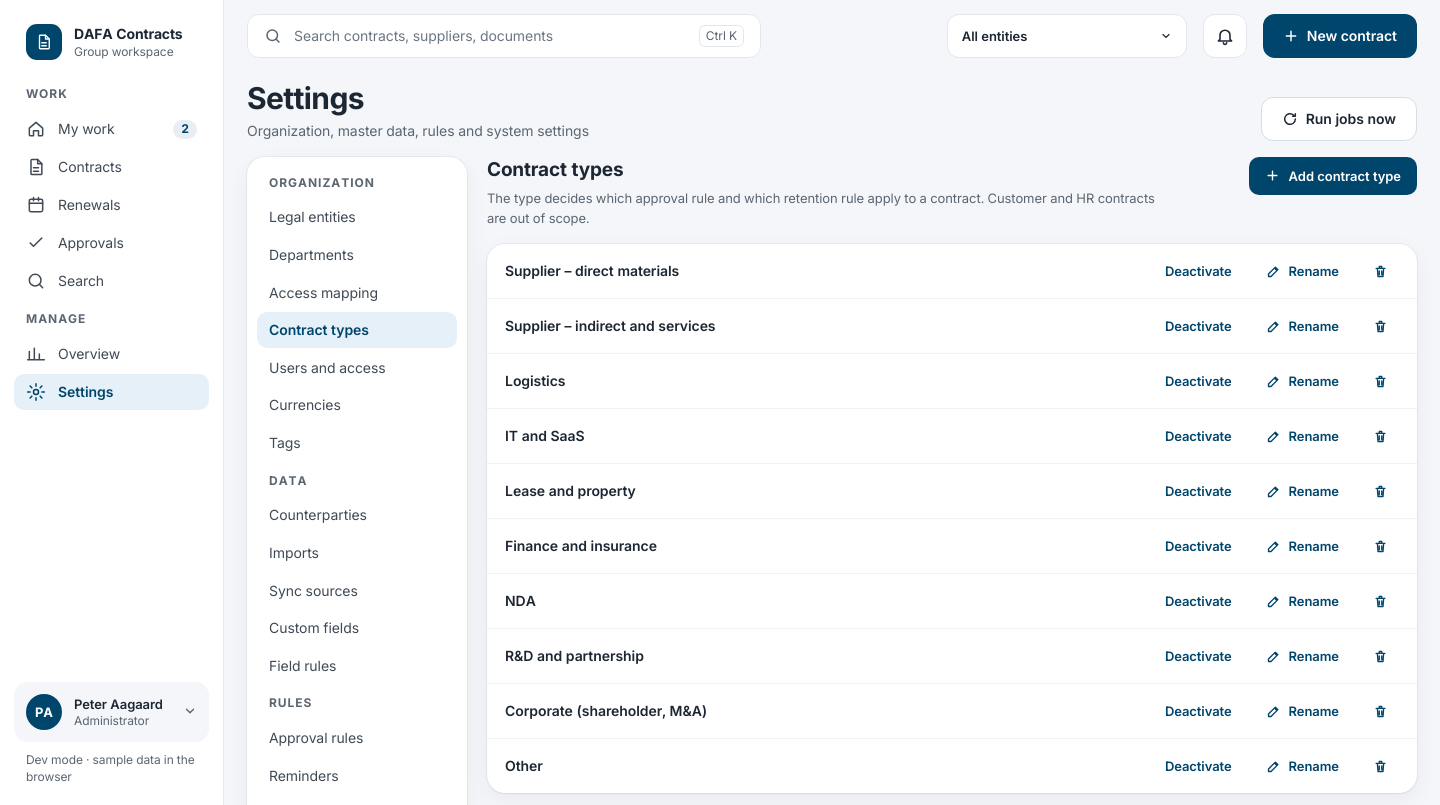
Test: M1: a refused action shows the reason, not "One or more fields are invalid." › a rename the API refuses shows the sentence of the field in the toast
Click the button "Rename " in the row of "Supplier – direct materials".
click(1302, 271)  # box [1256,253,1349,289]
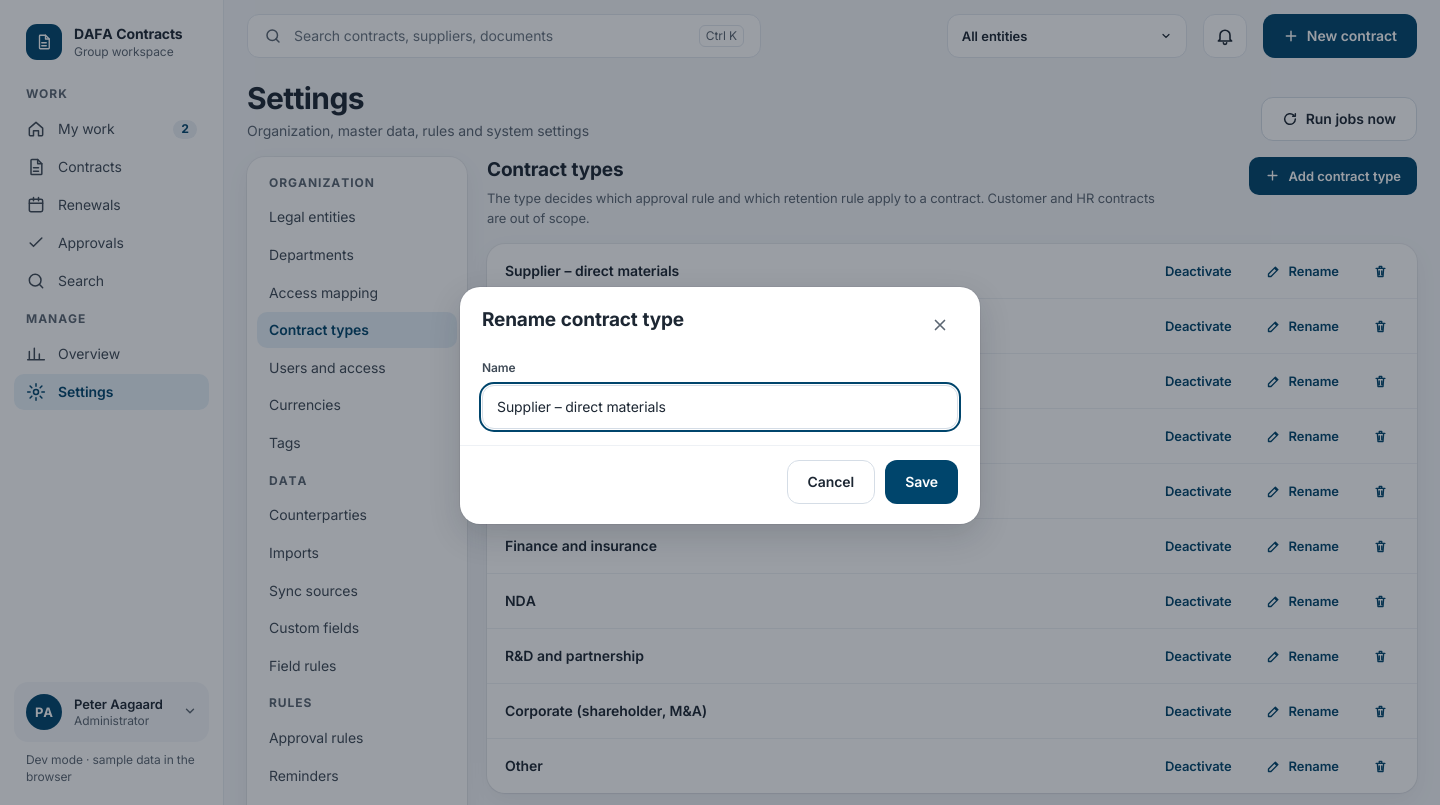
Type " 2" into the field labelled "Name".
click(720, 406); type(" 2")  # box [482,384,958,428]
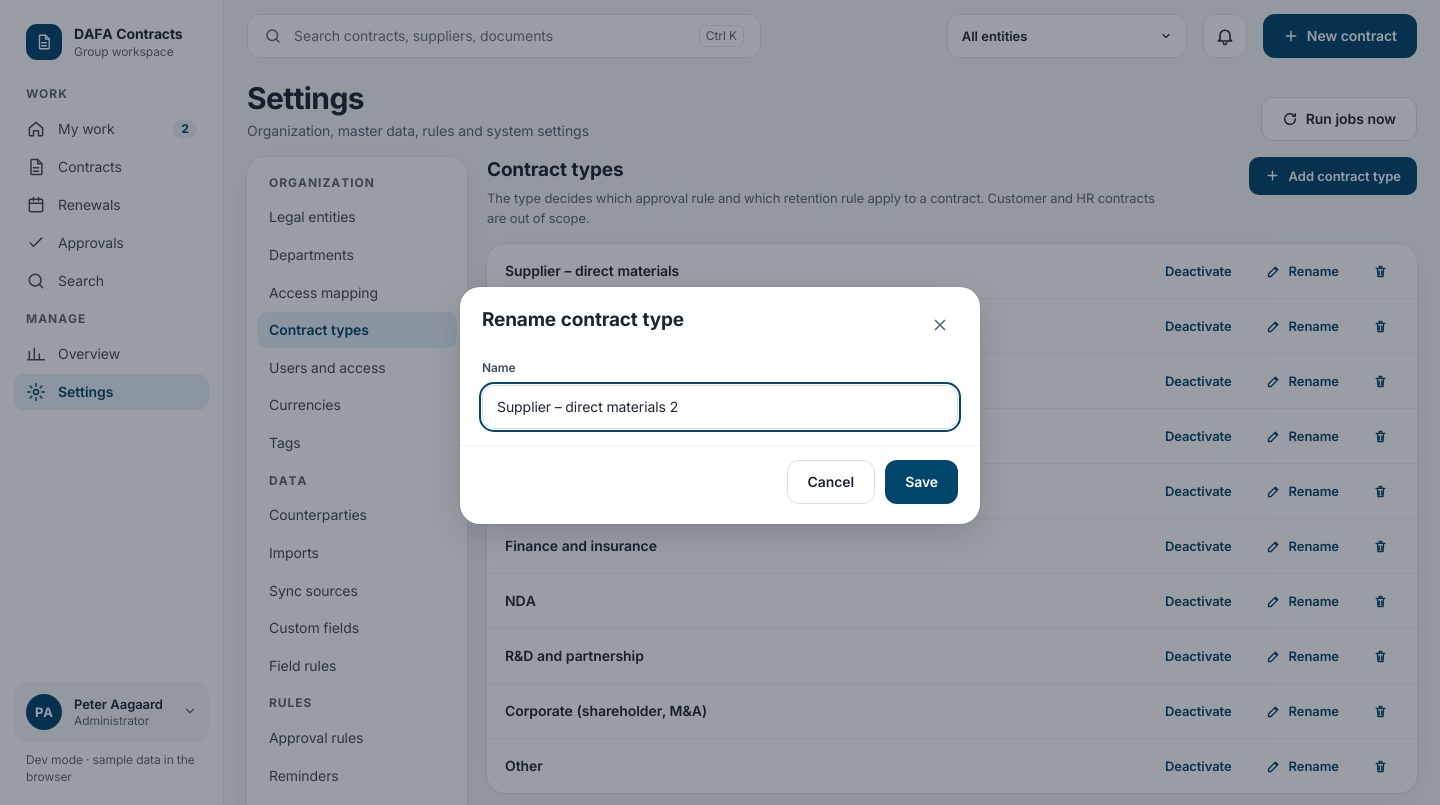
Click the button "Save".
click(922, 482)  # box [885,460,958,504]
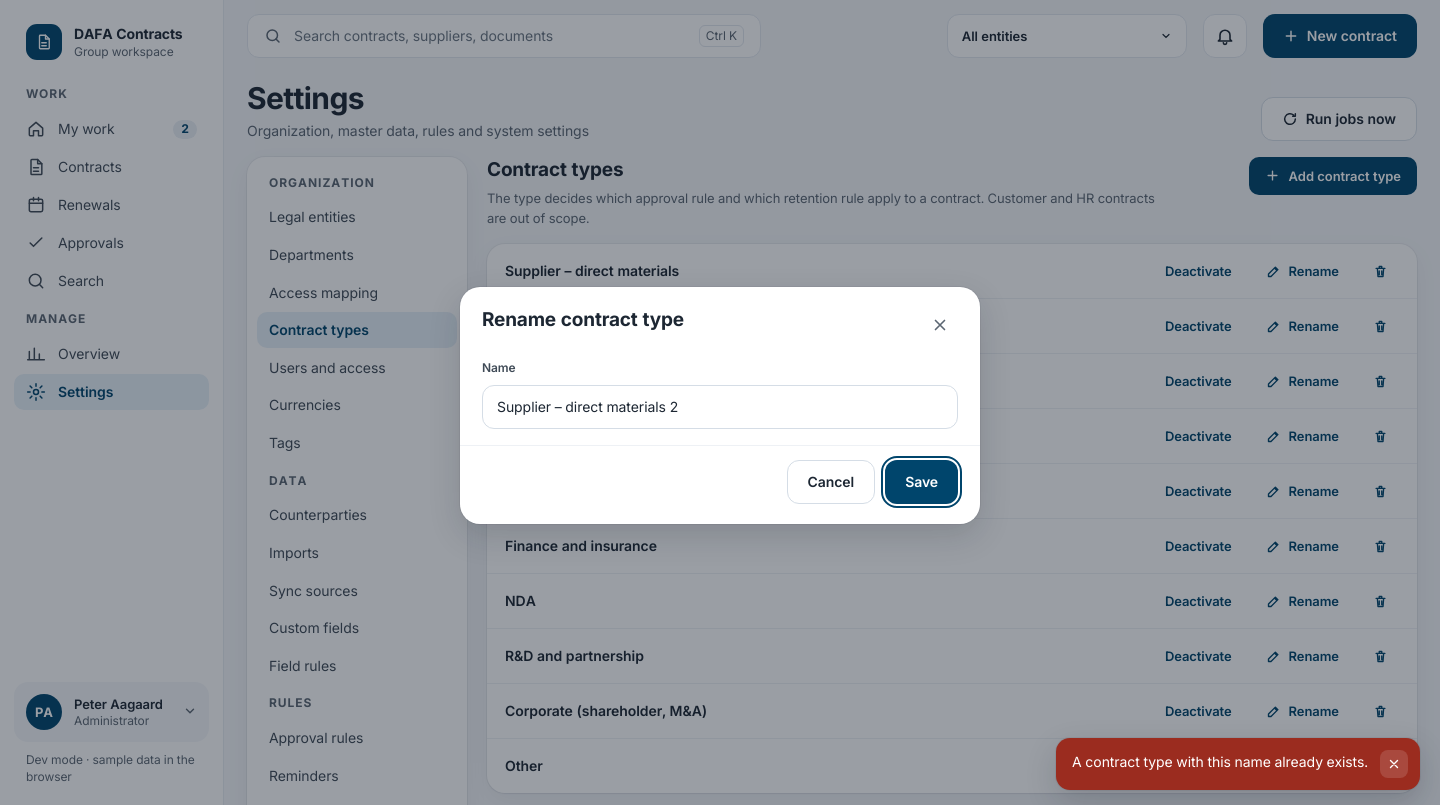
Expected: the message reads "A contract type with this name already exists.", [1072,753,1368,770]
